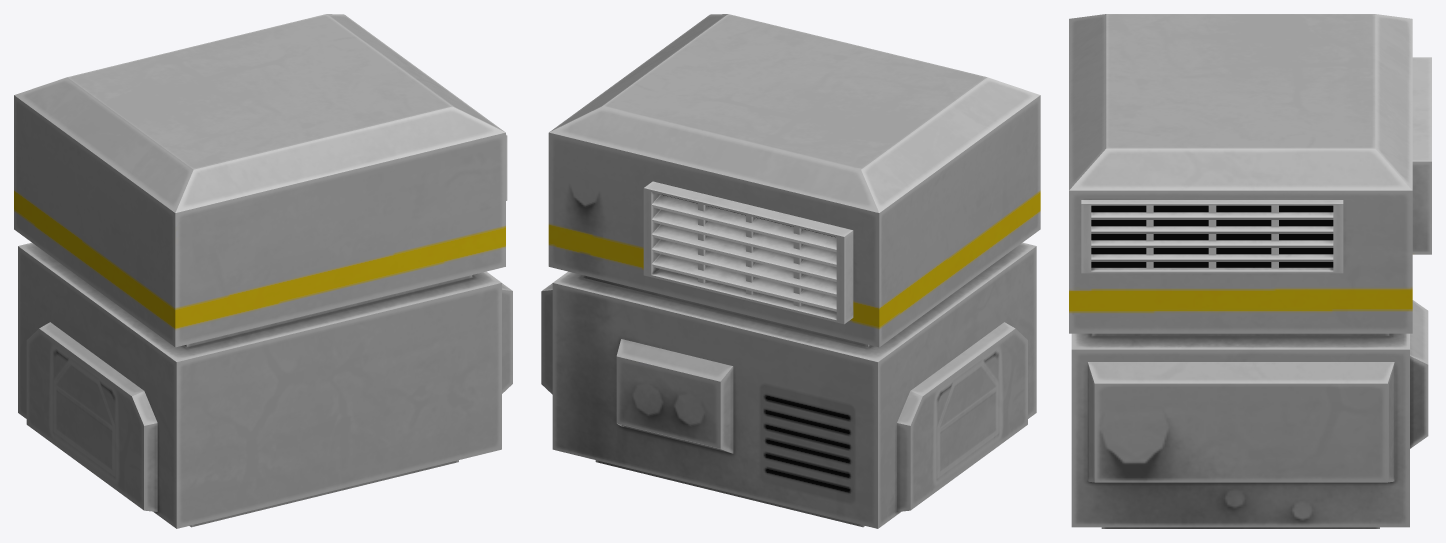
File: Pfb_Ventilation_Soda2.fbx
The picture shows the model from 3 angles, left to right: view 1: azimuth 30°, elevation 25°; view 2: azimuth 150°, elevation 25°; view 3: azimuth 270°, elevation 25°; orthographic projection. The views are drawn at different scales.
Parts seen in each view (by area): view 1: Mat_Ventilation_Soda; view 2: Mat_Ventilation_Soda; view 3: Mat_Ventilation_Soda.
Boxes of the visible parts, x1,y1,x2,y2 form: Mat_Ventilation_Soda: (14, 14, 512, 528); Mat_Ventilation_Soda: (541, 14, 1040, 528); Mat_Ventilation_Soda: (1069, 14, 1431, 528).
Bounding box in the file's own units: 2.64 × 2.5 × 2.17.
1 material, 1 textured.
